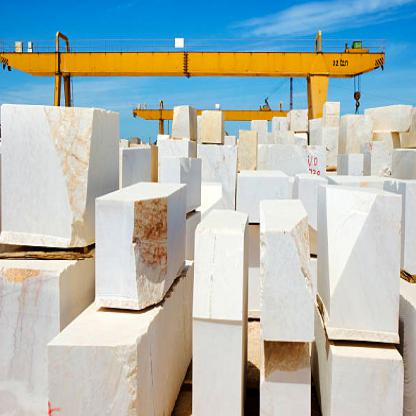Metamorphic_Marble: (0, 100, 126, 254), (38, 302, 194, 415), (320, 178, 402, 346), (89, 186, 184, 300), (258, 198, 318, 340), (189, 200, 250, 322), (325, 333, 405, 415)
